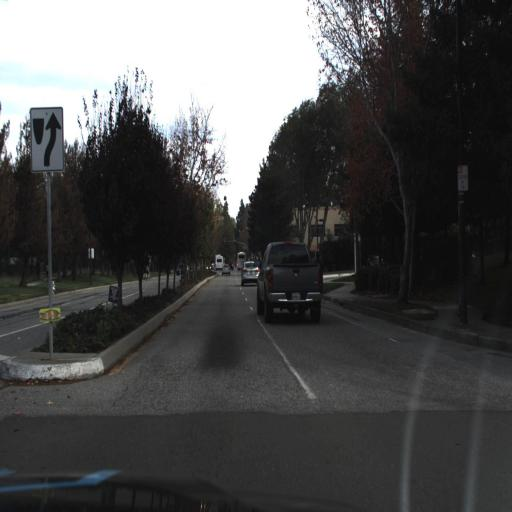car: (255, 242, 325, 324), (238, 259, 260, 289)
